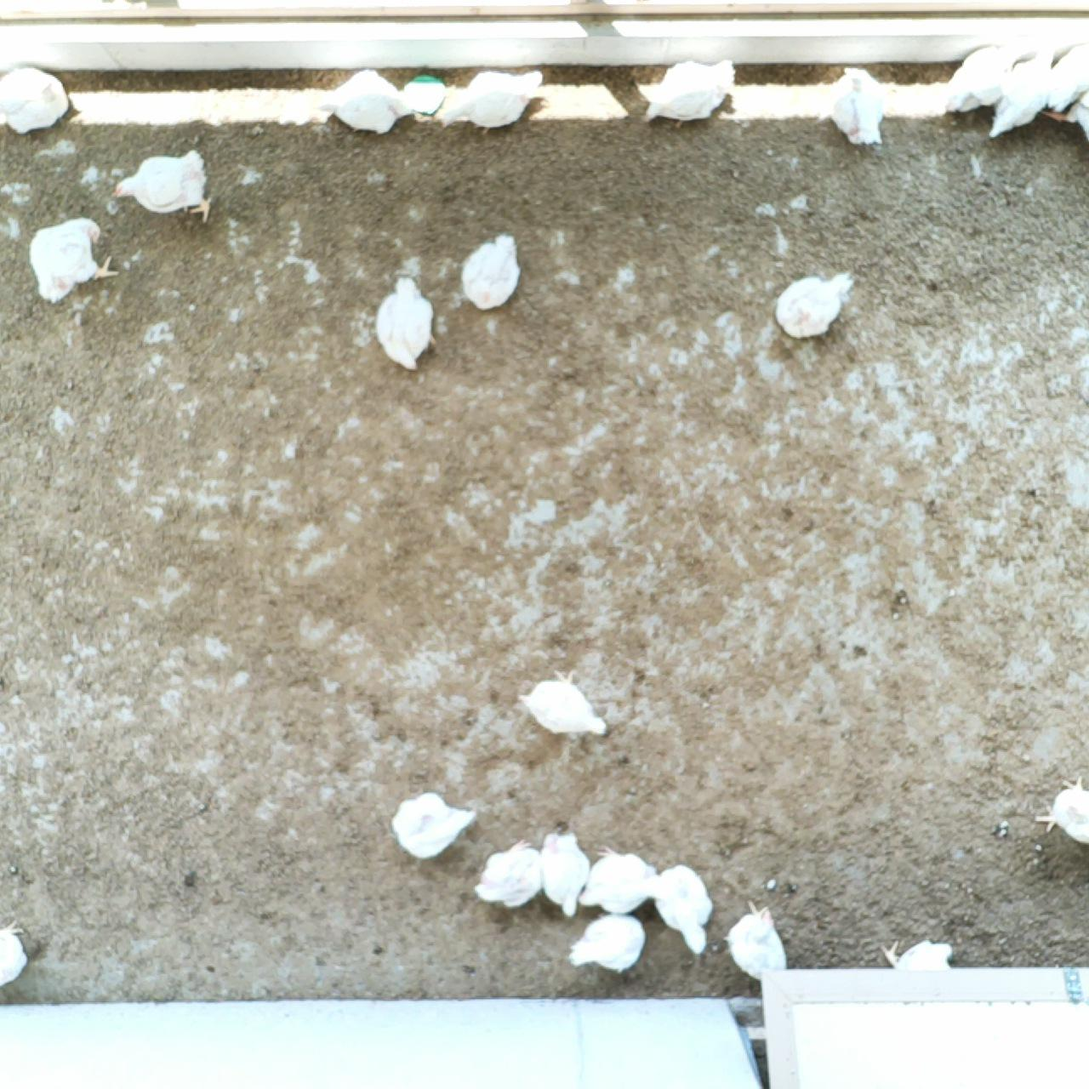chicken: (27, 218, 124, 305), (430, 69, 547, 137), (988, 40, 1065, 140), (111, 149, 213, 222), (875, 935, 963, 1017), (635, 61, 742, 127), (521, 663, 610, 741), (719, 896, 794, 988), (644, 859, 713, 959), (944, 38, 1031, 117), (372, 274, 438, 376), (388, 788, 479, 860), (576, 842, 660, 917), (772, 271, 857, 341), (327, 69, 415, 136), (535, 825, 595, 920), (472, 837, 548, 912), (569, 911, 649, 980), (0, 59, 72, 135), (459, 230, 524, 313), (825, 64, 885, 148), (1030, 771, 1089, 845), (1041, 37, 1089, 116), (1042, 83, 1089, 148), (0, 915, 27, 995)
